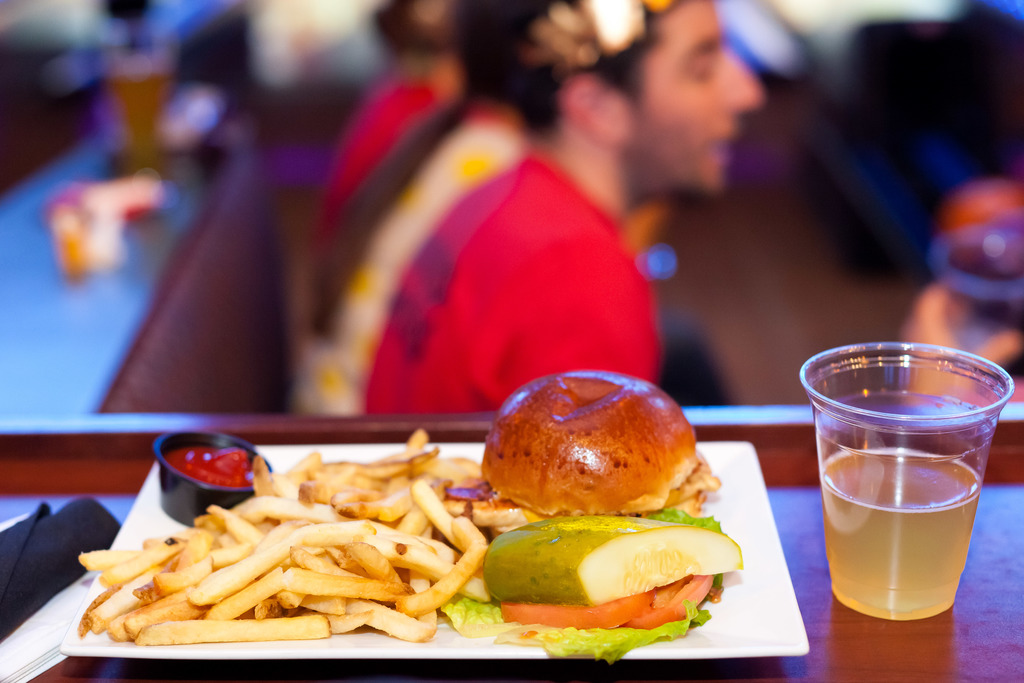French fries: (92, 449, 523, 645)
